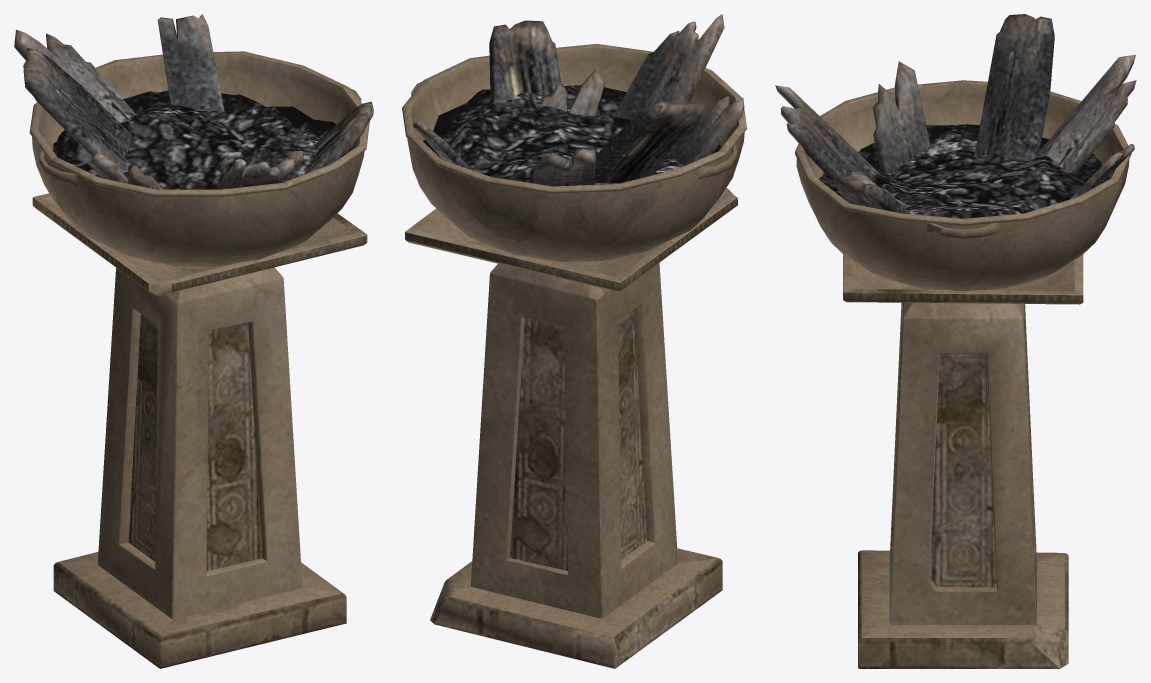
The model's file is SM_ION_FireBarrel_01.fbx.
3 renders of one model, left to right at view 1: azimuth 30°, elevation 25°; view 2: azimuth 150°, elevation 25°; view 3: azimuth 270°, elevation 25°, orthographic. The views are drawn at different scales.
Visible parts, largest first — view 1: SM_ION_FireBarrel_01.mo; view 2: SM_ION_FireBarrel_01.mo; view 3: SM_ION_FireBarrel_01.mo.
Part boxes in pixels (x1,y1,x2,y2): SM_ION_FireBarrel_01.mo: (14, 14, 373, 668); SM_ION_FireBarrel_01.mo: (402, 14, 746, 668); SM_ION_FireBarrel_01.mo: (775, 14, 1136, 668).
Size of the model in its own units: 74.04 by 127 by 76.33.
